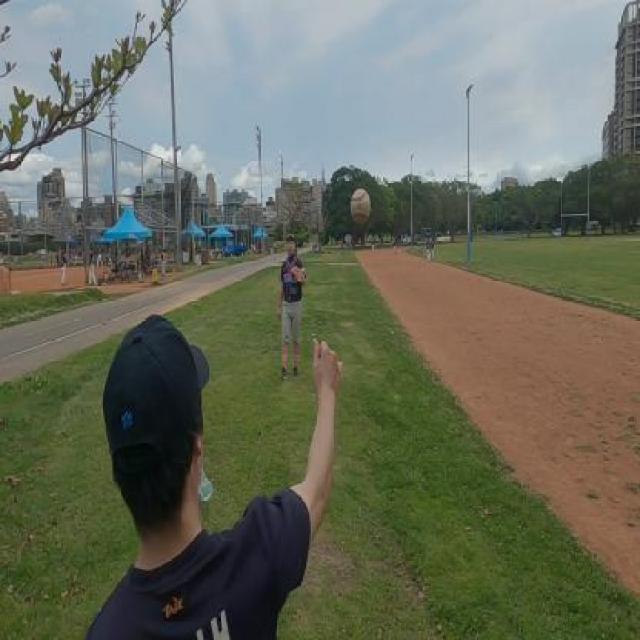baseball: (352, 186, 370, 228)
